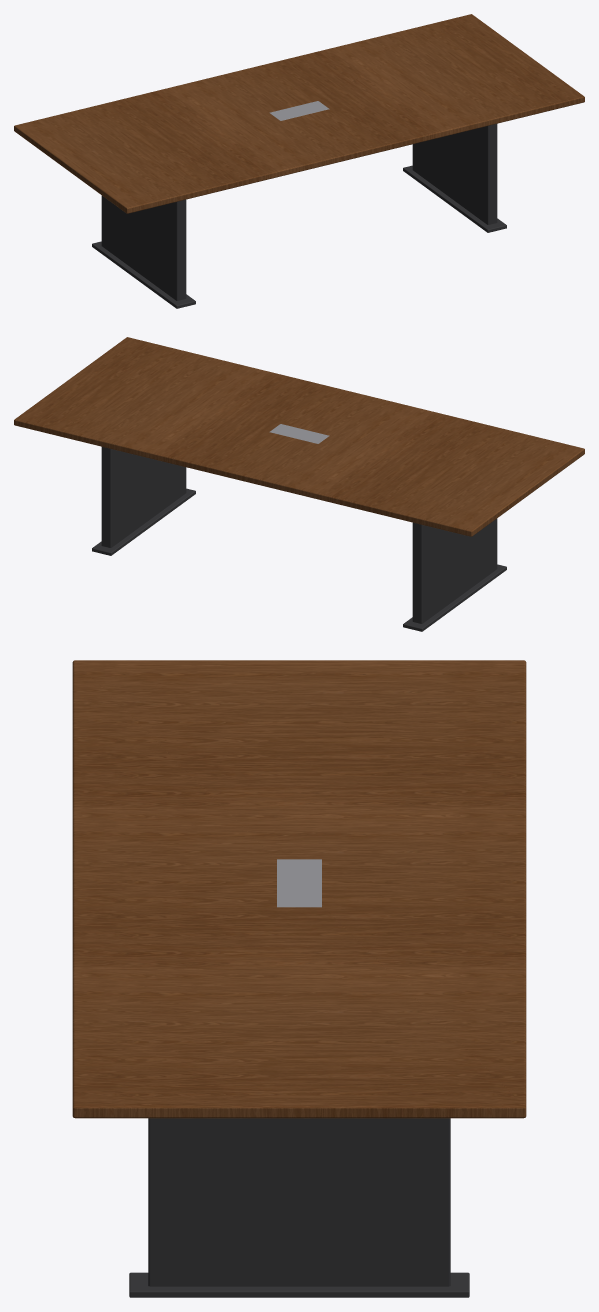
The model's file is meeting_table.glb.
3 views of the same model, one above another, from view 1: azimuth 30°, elevation 25°; view 2: azimuth 150°, elevation 25°; view 3: azimuth 270°, elevation 25° (orthographic). The views are drawn at different scales.
Parts seen in each view (by area): view 1: Cube, Cube.001, Cube.003, Cube.004, Cube.002, Cube.005; view 2: Cube, Cube.001, Cube.003, Cube.004, Cube.002, Cube.005; view 3: Cube, Cube.003, Cube.004, Cube.005.
Part boxes in pixels (x1=…): Cube: x1=14, y1=14, x2=584, y2=213; Cube.001: x1=101, y1=195, x2=186, y2=300; Cube.003: x1=412, y1=124, x2=497, y2=224; Cube.004: x1=403, y1=165, x2=506, y2=232; Cube.002: x1=92, y1=241, x2=195, y2=308; Cube.005: x1=269, y1=101, x2=329, y2=120; Cube: x1=14, y1=337, x2=584, y2=536; Cube.001: x1=412, y1=518, x2=497, y2=623; Cube.003: x1=101, y1=447, x2=186, y2=547; Cube.004: x1=92, y1=488, x2=195, y2=555; Cube.002: x1=403, y1=564, x2=506, y2=631; Cube.005: x1=269, y1=424, x2=329, y2=443; Cube: x1=72, y1=660, x2=526, y2=1118; Cube.003: x1=148, y1=1118, x2=450, y2=1286; Cube.004: x1=129, y1=1272, x2=469, y2=1297; Cube.005: x1=277, y1=859, x2=321, y2=907.
Bounding box in the file's own units: 2.8 × 0.7405 × 1.2.
3 materials, 1 textured.
